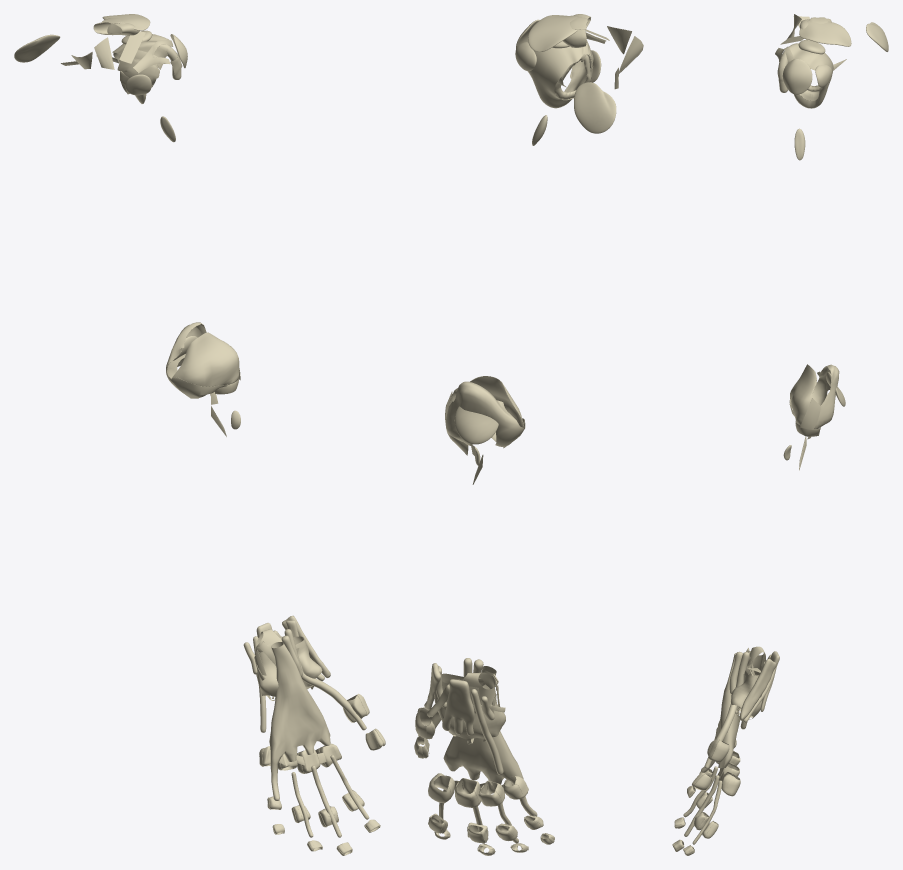
The model's file is joints.upper_limb_left.glb.
3 views of the same model, side by side, from view 1: azimuth 30°, elevation 25°; view 2: azimuth 150°, elevation 25°; view 3: azimuth 270°, elevation 25° (orthographic). The views are drawn at different scales.
Parts seen in each view (by area): view 1: left_common_flexor_tendon_sheath, left_articular_capsule_of_elbow_joint, left_articular_capsule_of_radiocarpal_joint, left_articular_capsules_of_metacarpophalangeal_joints, left_synovial_sheaths_of_digits_of_hand, left_tendon_sheath_of_flexor_pollicis_longus, left_articular_capsule_of_glenohumeral_joint; view 2: left_articular_capsule_of_elbow_joint, left_common_flexor_tendon_sheath, left_articular_capsules_of_metacarpophalangeal_joints, left_articular_capsule_of_glenohumeral_joint, left_articular_capsule_of_radiocarpal_joint, left_subtendinous_bursa_of_trapezius_muscle, left_tendon_sheath_of_extensor_digitorum_and_extensor_indici, left_subcutaneous_acromial_bursa, left_subtendinous_bursa_of_triceps_brachii_muscle, left_articular_capsules_of_proximal_interphalangeal_joints, left_tendon_sheath_of_extensor_digiti_minimi_manus, left_articular_capsules_of_distal_interphalangeal_joints (+4 smaller); view 3: left_articular_capsule_of_elbow_joint, left_articular_capsule_of_glenohumeral_joint, left_common_flexor_tendon_sheath, left_subcutaneous_acromial_bursa, left_articular_capsule_of_radiocarpal_joint, left_subdeltoid_bursa, left_articular_capsules_of_metacarpophalangeal_joints, left_synovial_sheaths_of_digits_of_hand, left_tendon_sheath_abd_pollicis_longus_ext_pollicis_brevis, left_tendon_sheath_of_flexor_pollicis_longus, left_articular_capsules_of_distal_interphalangeal_joints, left_collateral_interphalangeal_ligaments_of_hand.
Boxes of the visible parts, x1,y1,x2,y2 form: left_common_flexor_tendon_sheath: (269,642,330,800); left_articular_capsule_of_elbow_joint: (166,322,239,397); left_articular_capsule_of_radiocarpal_joint: (255,629,321,700); left_articular_capsules_of_metacarpophalangeal_joints: (259,694,366,773); left_synovial_sheaths_of_digits_of_hand: (291,755,369,837); left_tendon_sheath_of_flexor_pollicis_longus: (284,629,366,730); left_articular_capsule_of_glenohumeral_joint: (112,34,170,103); left_articular_capsule_of_elbow_joint: (445,376,524,446); left_common_flexor_tendon_sheath: (443,666,537,816); left_articular_capsules_of_metacarpophalangeal_joints: (415,708,528,807); left_articular_capsule_of_glenohumeral_joint: (527,46,591,108); left_articular_capsule_of_radiocarpal_joint: (438,672,505,744); left_subtendinous_bursa_of_trapezius_muscle: (574,82,616,133); left_tendon_sheath_of_extensor_digitorum_and_extensor_indici: (442,679,474,735); left_subcutaneous_acromial_bursa: (528,15,583,52); left_subtendinous_bursa_of_triceps_brachii_muscle: (454,406,498,444); left_articular_capsules_of_proximal_interphalangeal_joints: (429,813,543,842); left_tendon_sheath_of_extensor_digiti_minimi_manus: (471,689,503,774); left_articular_capsules_of_distal_interphalangeal_joints: (414,736,554,855); left_articular_capsule_of_elbow_joint: (790,364,839,428); left_articular_capsule_of_glenohumeral_joint: (781,43,833,108); left_common_flexor_tendon_sheath: (701,653,739,772); left_subcutaneous_acromial_bursa: (799,20,851,46); left_articular_capsule_of_radiocarpal_joint: (731,646,765,719); left_subdeltoid_bursa: (782,59,812,94); left_articular_capsules_of_metacarpophalangeal_joints: (707,739,740,796); left_synovial_sheaths_of_digits_of_hand: (683,766,722,844); left_tendon_sheath_abd_pollicis_longus_ext_pollicis_brevis: (739,659,776,720); left_tendon_sheath_of_flexor_pollicis_longus: (704,652,749,768); left_articular_capsules_of_distal_interphalangeal_joints: (673,773,711,855); left_collateral_interphalangeal_ligaments_of_hand: (674,768,716,855).
Size of the model in its own units: 0.2409 by 0.6953 by 0.1793.
